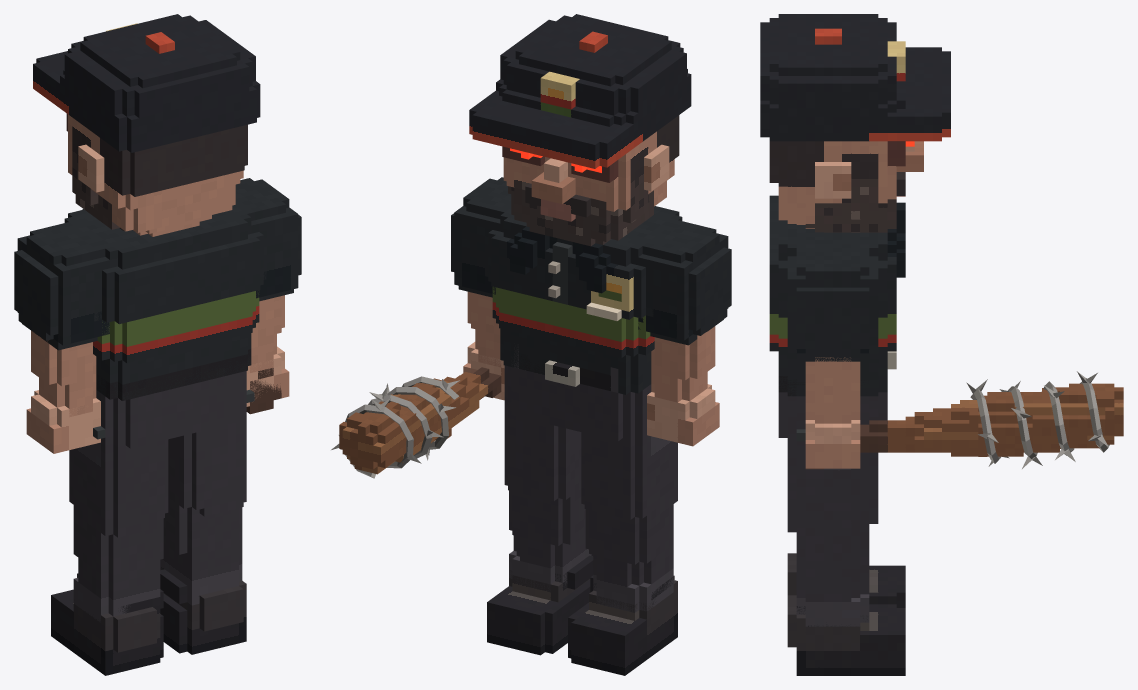
Rendered from nightshift.glb.
The picture shows the model from 3 angles, left to right: view 1: azimuth 30°, elevation 25°; view 2: azimuth 150°, elevation 25°; view 3: azimuth 270°, elevation 25°; orthographic projection. The views are drawn at different scales.
Parts seen in each view (by area): view 1: nightshift_body, nightshift_accent; view 2: nightshift_body, nightshift_accent; view 3: nightshift_body, nightshift_accent.
Boxes of the visible parts, bbox=[...] form: nightshift_body: bbox=[14, 14, 301, 675]; nightshift_accent: bbox=[97, 291, 259, 346]; nightshift_body: bbox=[331, 14, 731, 675]; nightshift_accent: bbox=[492, 286, 650, 341]; nightshift_body: bbox=[760, 14, 1123, 675]; nightshift_accent: bbox=[769, 314, 896, 338].
Bounding box in the file's own units: 0.8037 × 1.81 × 0.9784.
Materials: 3 (1 with a texture image).
